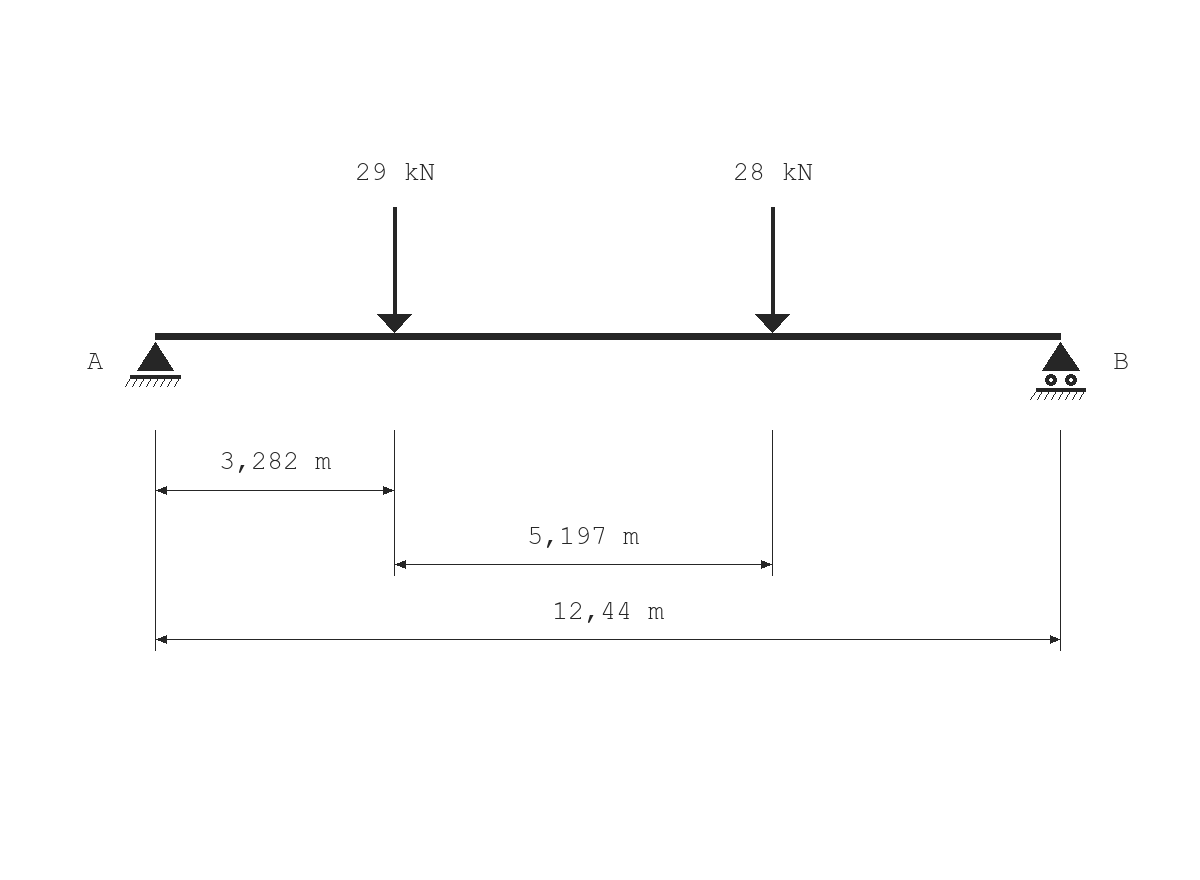pin_support: (125, 342, 181, 387)
point_load: (377, 207, 412, 333), (755, 207, 790, 333)
roller_support: (1030, 342, 1086, 400)
